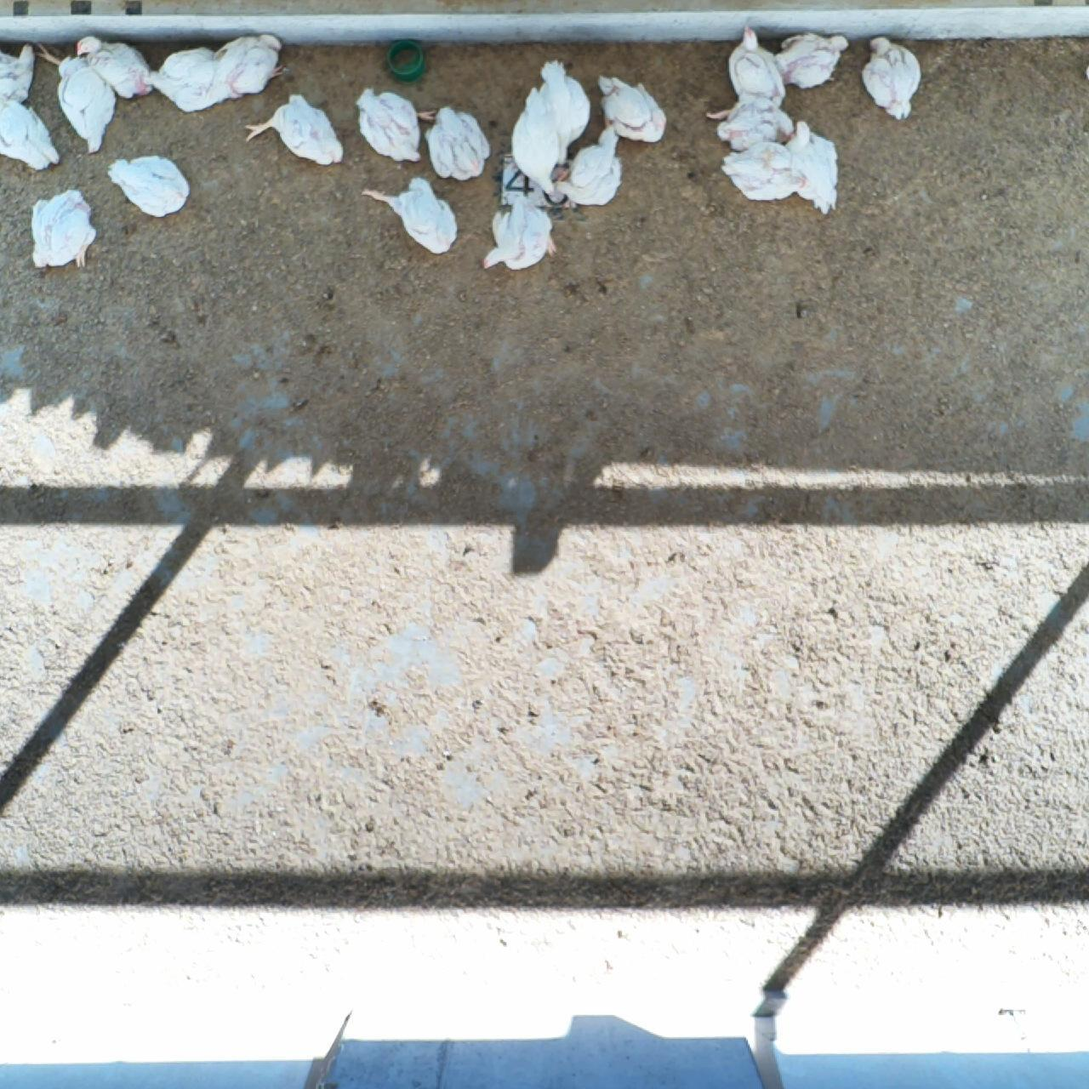chicken: (242, 93, 349, 176), (361, 178, 462, 259), (41, 47, 113, 154), (25, 187, 102, 276), (105, 154, 191, 228), (355, 85, 431, 168), (547, 128, 629, 204), (702, 86, 796, 152), (862, 30, 927, 124), (513, 79, 562, 203), (784, 114, 843, 214), (144, 45, 235, 109), (718, 140, 810, 202), (482, 200, 557, 276), (724, 22, 790, 105), (595, 71, 664, 148), (77, 31, 148, 105), (426, 105, 488, 186), (1, 96, 65, 170), (775, 28, 849, 88), (544, 58, 592, 150), (215, 37, 293, 93), (1, 42, 36, 101)
